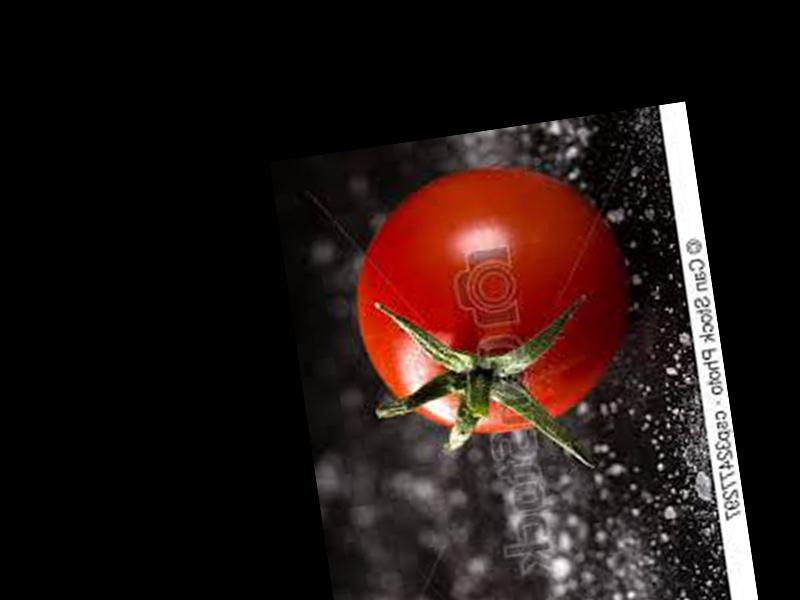Tomato: (338, 149, 643, 451)
